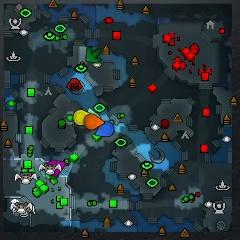p1: (94, 121, 114, 136)
p2: (88, 107, 100, 118)
p3: (47, 159, 66, 178)
p4: (73, 110, 89, 126)
p5: (84, 114, 104, 129)
x4: (86, 46, 102, 64)
